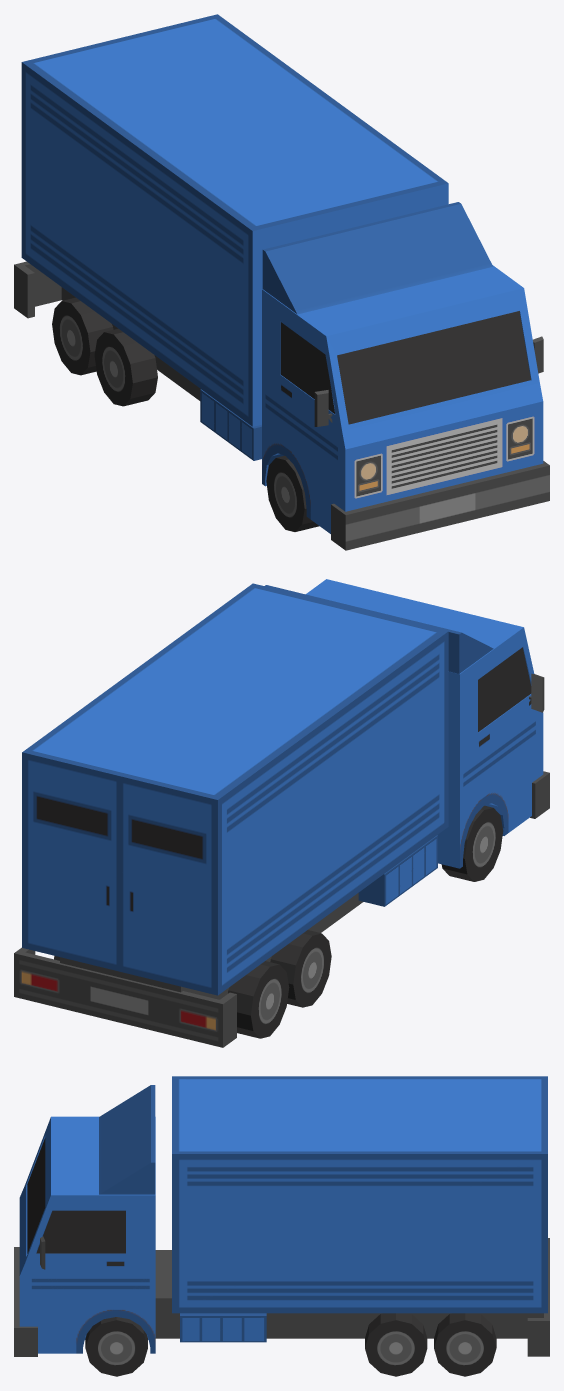
The model's file is vehicle-container-color02.glb.
The picture shows the model from 3 angles, top to bottom: view 1: azimuth 30°, elevation 25°; view 2: azimuth 150°, elevation 25°; view 3: azimuth 270°, elevation 25°; orthographic projection. The views are drawn at different scales.
Visible parts, largest first — view 1: model; view 2: model; view 3: model.
Boxes of the visible parts, bbox=[...] form: model: bbox=[14, 14, 549, 550]; model: bbox=[14, 579, 549, 1047]; model: bbox=[14, 1076, 549, 1376].
Size of the model in its own units: 3.63 by 4.16 by 9.09.
1 material, 1 textured.
